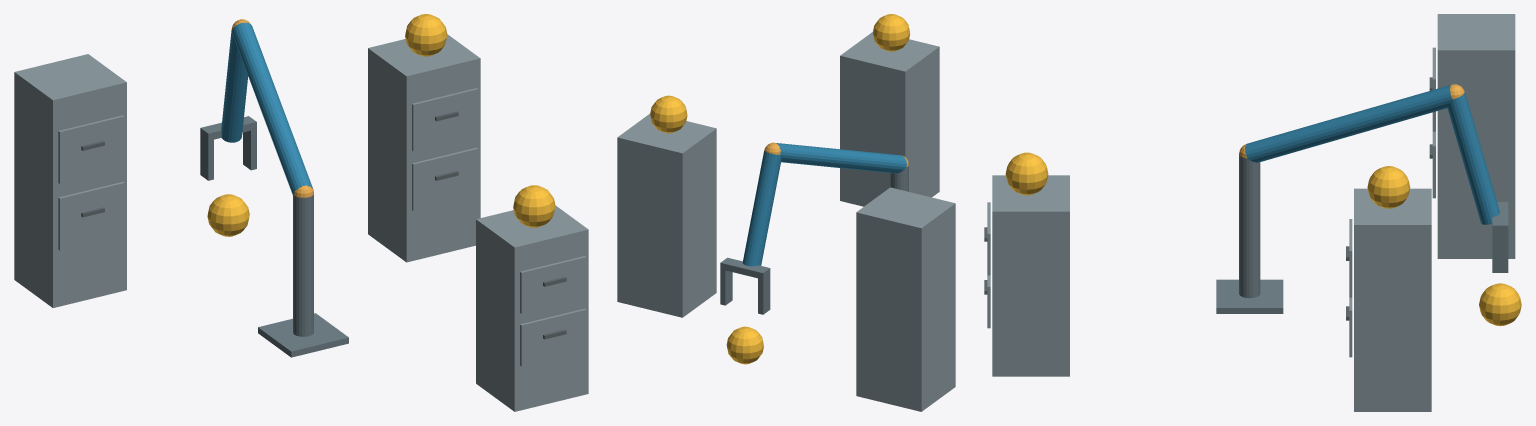
The picture shows the model from 3 angles, left to right: view 1: azimuth 30°, elevation 25°; view 2: azimuth 150°, elevation 25°; view 3: azimuth 270°, elevation 25°; orthographic projection. The views are drawn at different scales.
Visible parts, largest first — view 1: cabinet_3 body, cabinet_2 body, cabinet_1 body, moving link 1, cabinet_3 drawer front, cabinet_3 drawer front.001, cabinet_2 drawer front, cabinet_2 drawer front.001, fixed post, cabinet_1 drawer front, cabinet_1 drawer front.001, pedestal (+6 smaller); view 2: cabinet_3 body, cabinet_2 body, cabinet_1 body, moving link 1, moving link 2, released ball_2, ball ball_3, released ball_1, gripper bridge, gripper finger -1, gripper finger 1, fixed post; view 3: cabinet_2 body, cabinet_3 body, cabinet_1 body, moving link 1, fixed post, moving link 2, pedestal, released ball_1, ball ball_3, released ball_2, gripper finger 1.
Boxes of the visible parts, bbox=[...] form: cabinet_3 body: bbox=[14, 54, 126, 307]; cabinet_2 body: bbox=[368, 34, 480, 262]; cabinet_1 body: bbox=[476, 205, 588, 411]; moving link 1: bbox=[232, 22, 312, 194]; cabinet_3 drawer front: bbox=[58, 181, 124, 250]; cabinet_3 drawer front.001: bbox=[58, 115, 124, 183]; cabinet_2 drawer front: bbox=[412, 147, 478, 210]; cabinet_2 drawer front.001: bbox=[412, 88, 478, 151]; fixed post: bbox=[293, 194, 313, 336]; cabinet_1 drawer front: bbox=[520, 308, 586, 366]; cabinet_1 drawer front.001: bbox=[520, 256, 586, 313]; pedestal: bbox=[258, 313, 348, 357]; cabinet_3 body: bbox=[856, 187, 955, 411]; cabinet_2 body: bbox=[617, 114, 716, 317]; cabinet_1 body: bbox=[840, 32, 939, 206]; moving link 1: bbox=[776, 143, 906, 173]; moving link 2: bbox=[742, 150, 781, 266]; released ball_2: bbox=[650, 95, 687, 133]; ball ball_3: bbox=[726, 326, 763, 364]; released ball_1: bbox=[873, 14, 910, 51]; gripper bridge: bbox=[720, 257, 770, 279]; gripper finger -1: bbox=[758, 275, 770, 314]; gripper finger 1: bbox=[720, 269, 732, 305]; fixed post: bbox=[890, 165, 908, 191]; cabinet_2 body: bbox=[1354, 188, 1431, 411]; cabinet_3 body: bbox=[1437, 14, 1515, 258]; cabinet_1 body: bbox=[992, 175, 1069, 376]; moving link 1: bbox=[1245, 85, 1452, 162]; fixed post: bbox=[1239, 154, 1260, 298]; moving link 2: bbox=[1447, 92, 1499, 224]; pedestal: bbox=[1216, 279, 1283, 313]; released ball_1: bbox=[1005, 152, 1048, 195]; ball ball_3: bbox=[1479, 283, 1521, 326]; released ball_2: bbox=[1367, 166, 1410, 208]; gripper finger 1: bbox=[1492, 233, 1508, 272].
Bounding box in the file's own units: 1.67 × 0.966 × 2.01.
